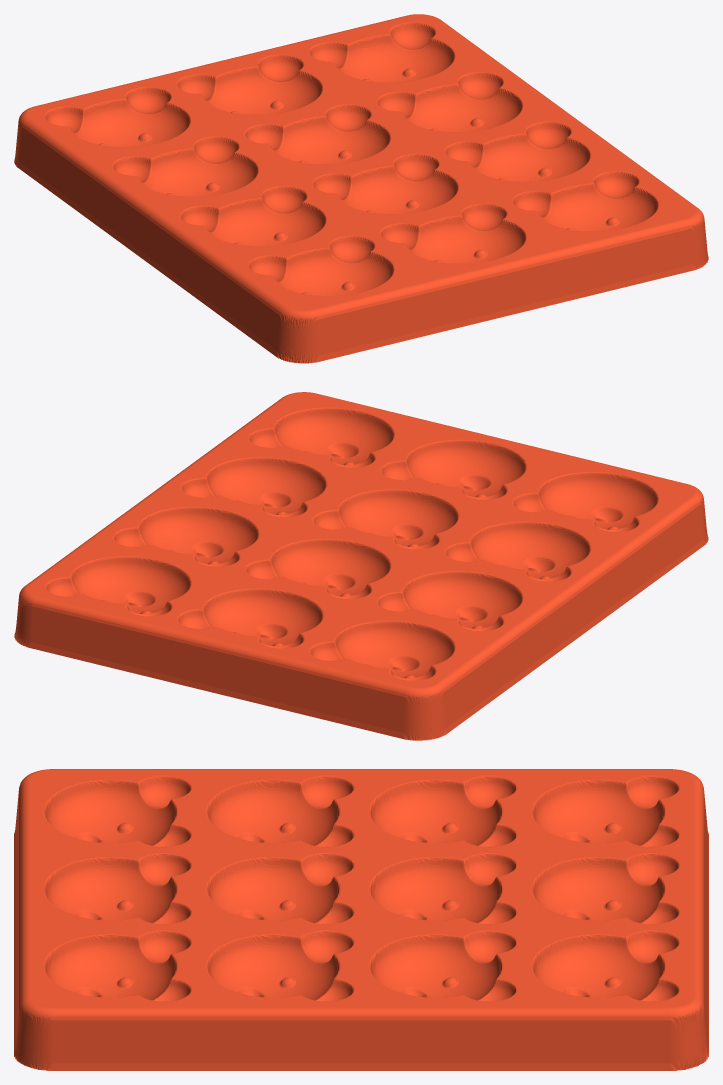
The model's file is mold.glb.
3 views of the same model, one above another, from view 1: azimuth 30°, elevation 25°; view 2: azimuth 150°, elevation 25°; view 3: azimuth 270°, elevation 25° (orthographic). The views are drawn at different scales.
Visible parts, largest first — view 1: geometry_0; view 2: geometry_0; view 3: geometry_0.
Part boxes in pixels (x1=…): geometry_0: x1=14, y1=14, x2=708, y2=363; geometry_0: x1=14, y1=392, x2=708, y2=740; geometry_0: x1=14, y1=769, x2=708, y2=1070.
Bounding box in the file's own units: 0.1374 × 0.0145 × 0.1609.
